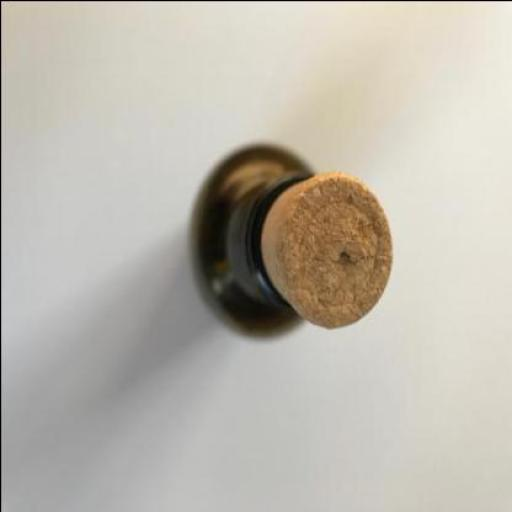glass: (191, 142, 314, 337)
